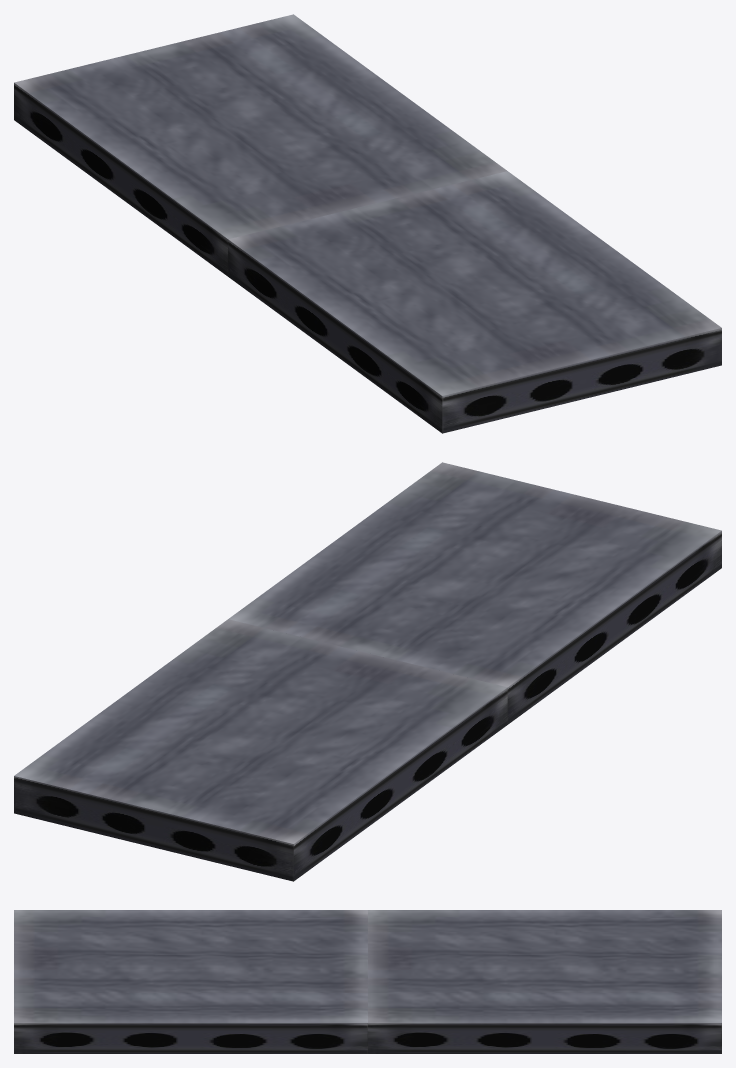
File: l_platform.fbx
3 renders of one model, top to bottom at view 1: azimuth 30°, elevation 25°; view 2: azimuth 150°, elevation 25°; view 3: azimuth 270°, elevation 25°, orthographic. The views are drawn at different scales.
Visible parts, largest first — view 1: L_platform; view 2: L_platform; view 3: L_platform.
Boxes of the visible parts, bbox=[...] form: L_platform: bbox=[14, 14, 721, 433]; L_platform: bbox=[14, 462, 721, 881]; L_platform: bbox=[14, 910, 721, 1053].
Size of the model in its own units: 94.24 by 12.08 by 250.
Materials: 1 (1 with a texture image).
